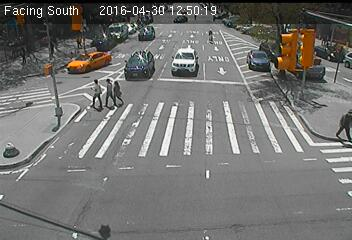neg: (43, 98, 69, 132), (284, 86, 304, 114), (3, 38, 20, 61), (1, 139, 17, 161), (336, 41, 351, 61), (109, 30, 122, 47), (41, 58, 53, 76), (242, 27, 255, 43), (204, 28, 216, 44)
pos: (84, 77, 108, 108), (96, 76, 119, 107), (106, 79, 127, 107), (337, 107, 351, 139), (73, 34, 85, 49)
